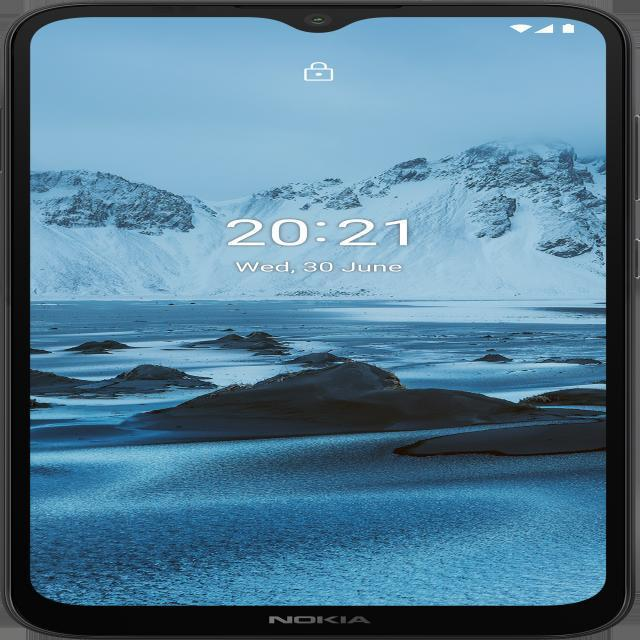Phone: (13, 1, 625, 632)
